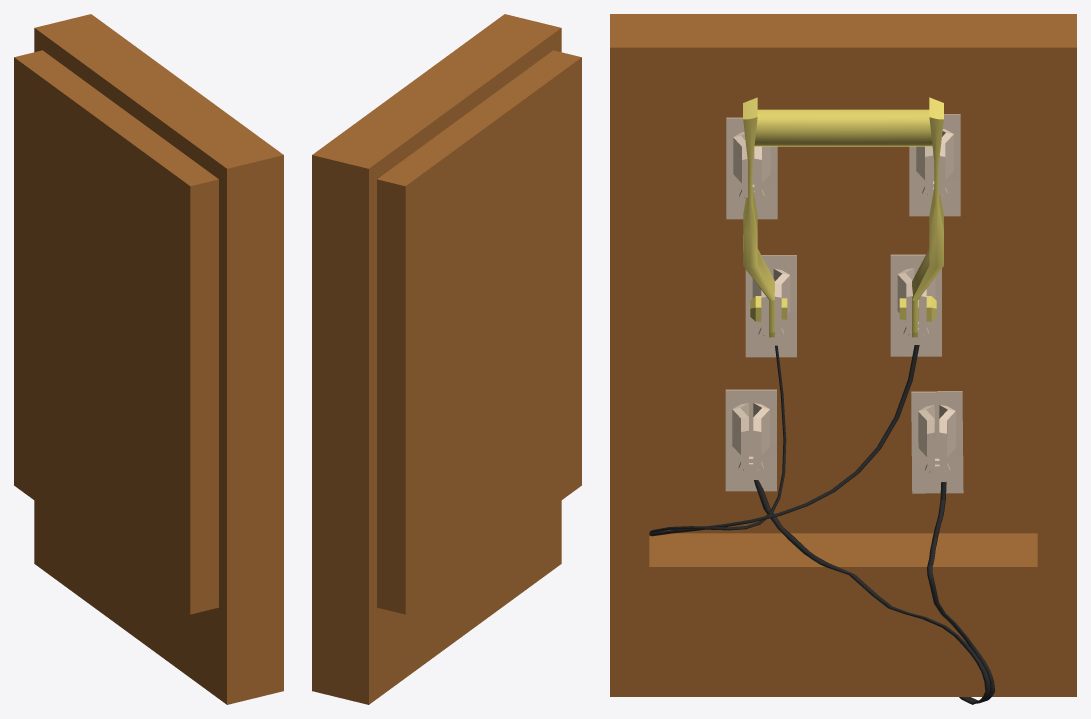
The model's file is Blackout_Full_Anim.fbx.
3 renders of one model, left to right at view 1: azimuth 30°, elevation 25°; view 2: azimuth 150°, elevation 25°; view 3: azimuth 270°, elevation 25°, orthographic. The views are drawn at different scales.
Visible parts, largest first — view 1: Blackout_Box; view 2: Blackout_Box; view 3: Blackout_Box, Blackout_Lever.
Boxes of the visible parts, box(x1,y1,x2,y2) form: Blackout_Box: box(14, 14, 283, 704); Blackout_Box: box(312, 14, 581, 704); Blackout_Box: box(610, 14, 1076, 704); Blackout_Lever: box(743, 97, 943, 337).
Bounding box in the file's own units: 70.98 × 21.65 × 110.
